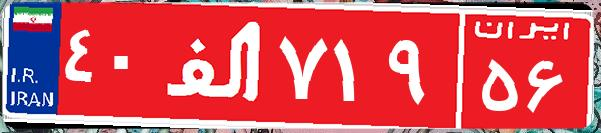0: (110, 28, 158, 105)
1: (330, 28, 385, 110)
4: (57, 26, 110, 107)
5: (475, 38, 525, 113)
6: (525, 38, 570, 115)
7: (273, 28, 330, 110)
9: (385, 28, 445, 110)
الف: (158, 15, 273, 115)
